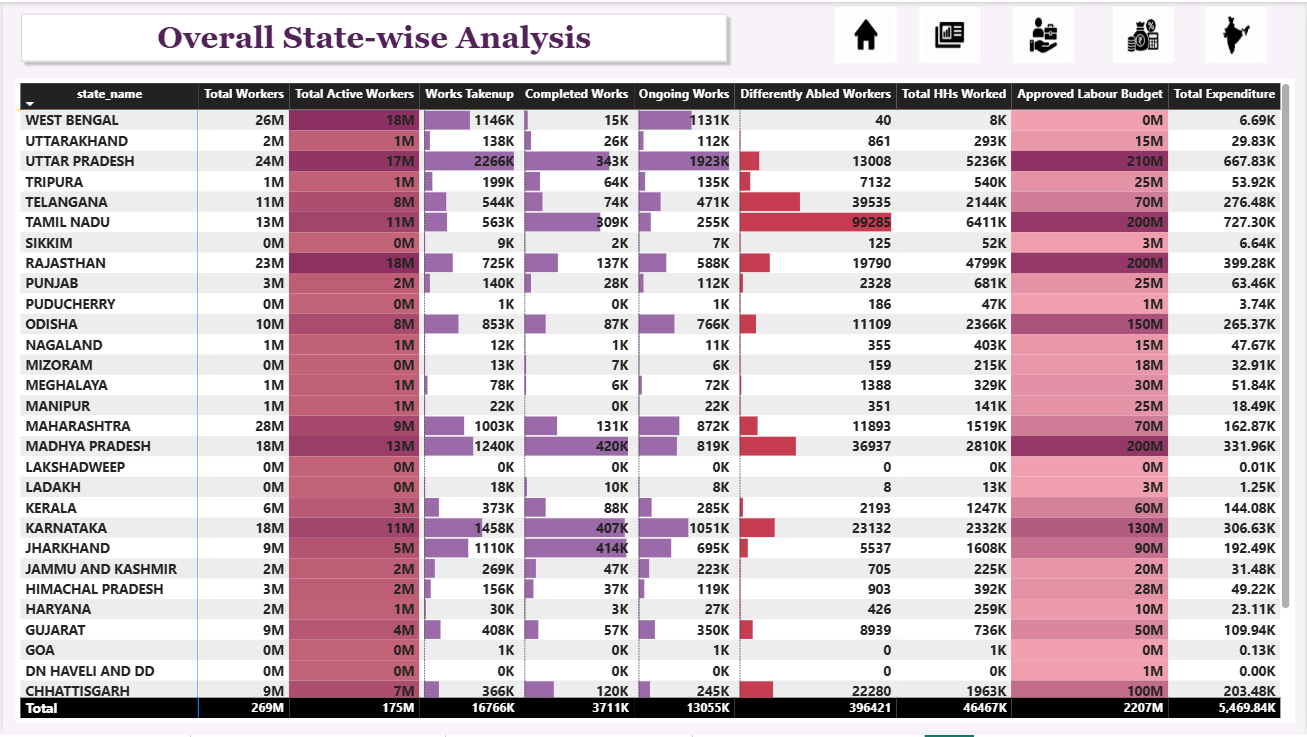

The page's visual inventory and layout, read from the dashboard file:
{"tool":"powerbi","page":{"name":"Overall State-wise Analysis","canvas":[1280,720],"ordinal":3},"visuals":[{"type":"shape","box":[11,5,706,60.1],"z":0},{"type":"textbox","title":"Overall State-wise Analysis","box":[120.2,17.2,488.3,36.8],"z":1000},{"type":"image","box":[899,5,60,55],"z":2000},{"type":"image","box":[817,5,60,55],"z":3000},{"type":"image","box":[1090,5,60,55],"z":4000},{"type":"image","box":[992,5,60,55],"z":5000},{"type":"image","box":[1180,5,60,55],"z":6000},{"type":"pivotTable","fields":{"Rows":["NREGA Data.state_name"],"Values":["NREGA Data.Total Workers","NREGA Data.Total Active Workers","NREGA Data.Works Takenup","NREGA Data.Completed Works","NREGA Data.Ongoing Works","NREGA Data.Differently Abled Workers","NREGA Data.Total HHs Worked","Sum(NREGA Data.Approved Labour Budget)","NREGA Data.Total Expenditure"]},"box":[12,75,1256,633],"z":7000}]}

Visuals, with their boxes in screenshot pixels (x1, y1, x2, y2), scaled from the page's 1280x720 canvas onto the 1307x737 screenshot:
shape: box=[11, 5, 732, 67]
"Overall State-wise Analysis" textbox: box=[123, 18, 621, 55]
image: box=[918, 5, 979, 61]
image: box=[834, 5, 895, 61]
image: box=[1113, 5, 1174, 61]
image: box=[1013, 5, 1074, 61]
image: box=[1205, 5, 1266, 61]
pivotTable - NREGA Data.state_name x NREGA Data.Total Workers: box=[12, 77, 1295, 725]
